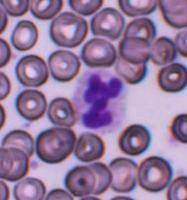N: (70, 66, 127, 136)
